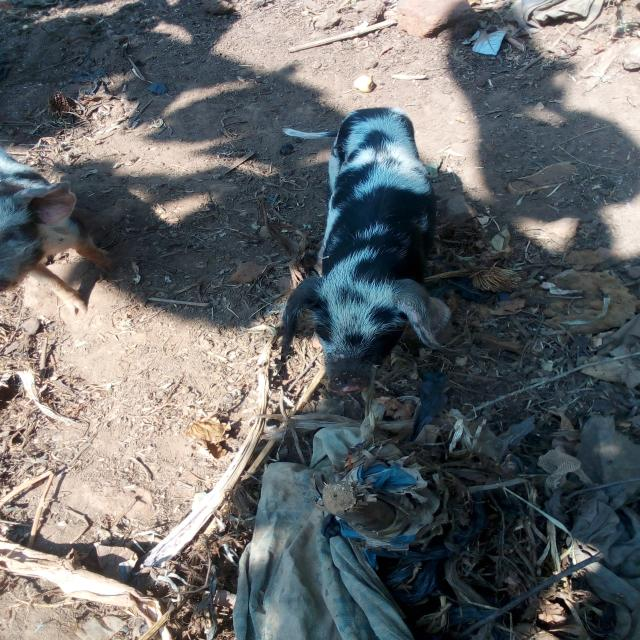pig: (219, 68, 491, 435)
